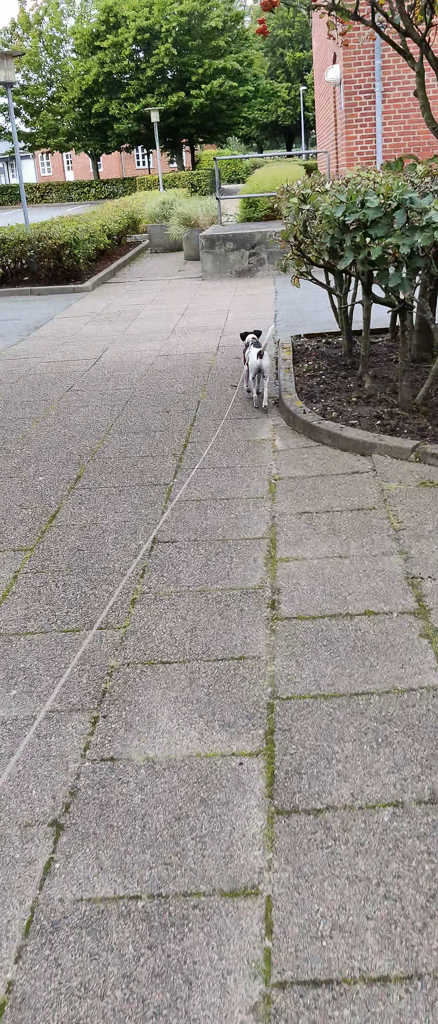Dog: (233, 314, 286, 421)
